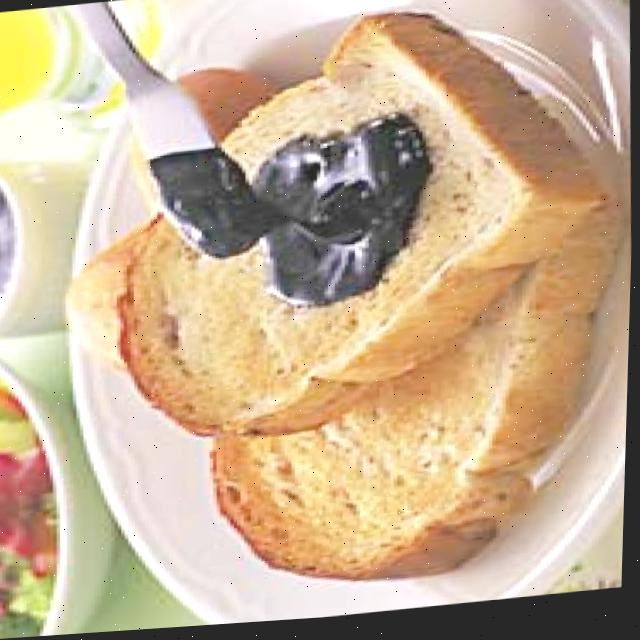面包点心: (51, 0, 619, 624)
